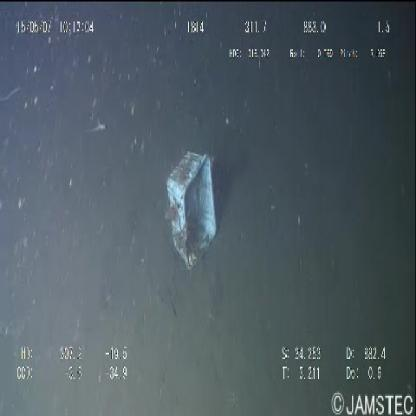Rác: (166, 153, 218, 273)
